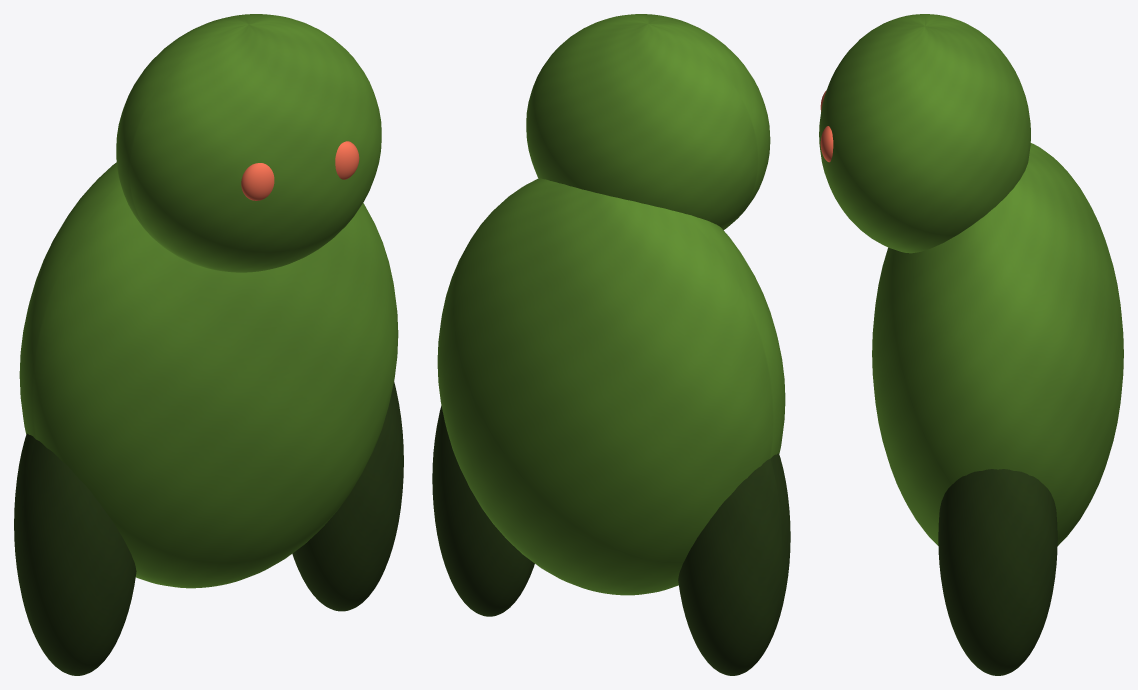
Rendered from monster_Orc.glb.
3 views of the same model, side by side, from view 1: azimuth 30°, elevation 25°; view 2: azimuth 150°, elevation 25°; view 3: azimuth 270°, elevation 25° (orthographic). The views are drawn at different scales.
Visible parts, largest first — view 1: Body, Head, Leg, Leg.001, Eye, Eye.001; view 2: Body, Head, Leg, Leg.001; view 3: Body, Head, Leg.001.
Boxes of the visible parts, x1,y1,x2,y2 form: Body: (19, 162, 398, 588); Head: (116, 14, 381, 272); Leg: (14, 433, 136, 675); Leg.001: (292, 381, 403, 611); Eye: (241, 163, 274, 200); Eye.001: (335, 141, 359, 179); Body: (437, 178, 785, 595); Head: (526, 14, 770, 230); Leg: (678, 453, 790, 675); Leg.001: (432, 405, 534, 616); Body: (872, 143, 1123, 545); Head: (819, 14, 1030, 253); Leg.001: (938, 469, 1057, 675).
Bounding box in the file's own units: 1.18 × 1.96 × 0.92.
3 materials, 2 textured.
